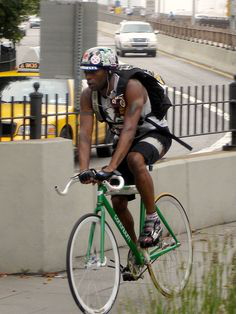bikerider: (46, 44, 201, 313)
